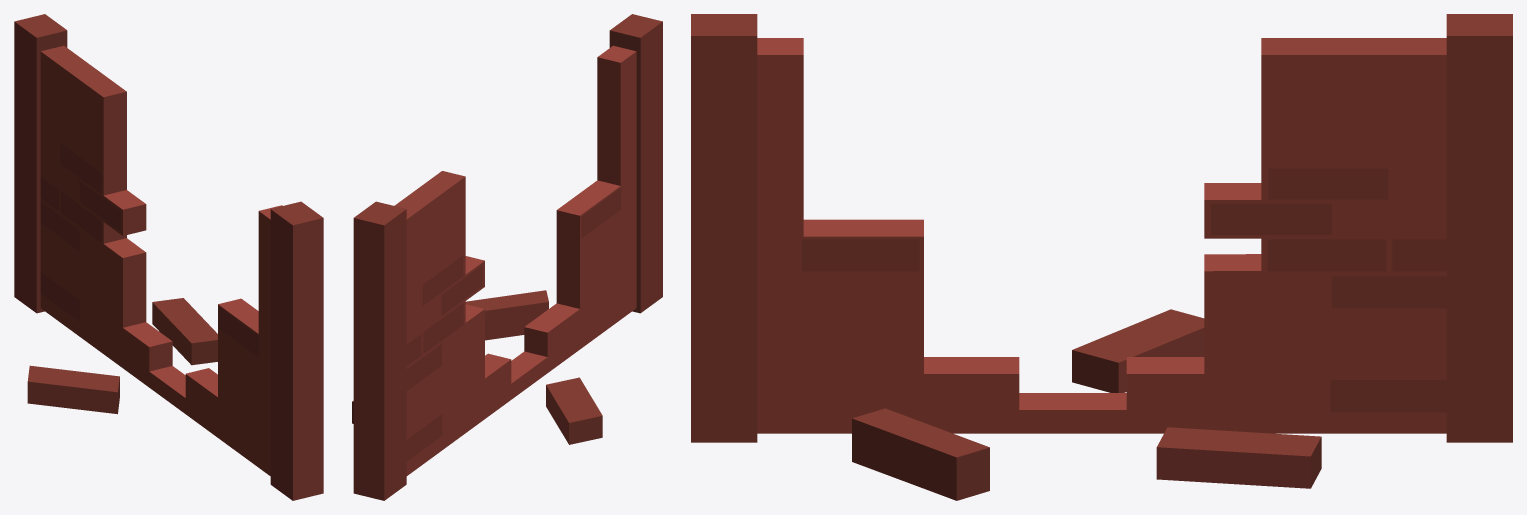
File: Fence_Brick_Damaged_02.fbx
3 renders of one model, left to right at view 1: azimuth 30°, elevation 25°; view 2: azimuth 150°, elevation 25°; view 3: azimuth 270°, elevation 25°, orthographic. The views are drawn at different scales.
Parts seen in each view (by area): view 1: Fence_Brick_Damaged_02; view 2: Fence_Brick_Damaged_02; view 3: Fence_Brick_Damaged_02.
Part boxes in pixels (left/top/right/bottom): Fence_Brick_Damaged_02: left=14, top=14, right=323, bottom=500; Fence_Brick_Damaged_02: left=352, top=14, right=662, bottom=500; Fence_Brick_Damaged_02: left=691, top=14, right=1512, bottom=500.
Size of the model in its own units: 2.38 by 5.24 by 2.86.
